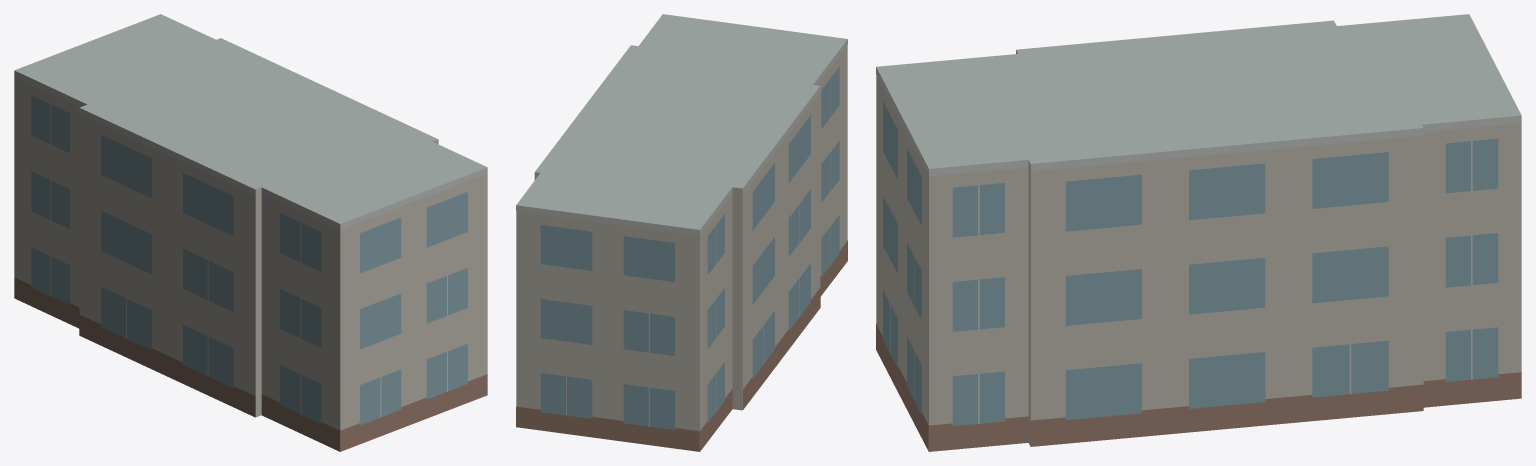
File: survey-upis-32696817.glb
3 renders of one model, left to right at view 1: azimuth 30°, elevation 25°; view 2: azimuth 150°, elevation 25°; view 3: azimuth 270°, elevation 25°, orthographic. The views are drawn at different scales.
Visible parts, largest first — view 1: survey-upis-32696817.tmp; view 2: survey-upis-32696817.tmp; view 3: survey-upis-32696817.tmp.
Boxes of the visible parts, left/top/right/bottom form: survey-upis-32696817.tmp: left=14, top=14, right=487, bottom=451; survey-upis-32696817.tmp: left=516, top=14, right=847, bottom=451; survey-upis-32696817.tmp: left=876, top=14, right=1521, bottom=451.
Size of the model in its own units: 10.75 by 9.15 by 18.93.
